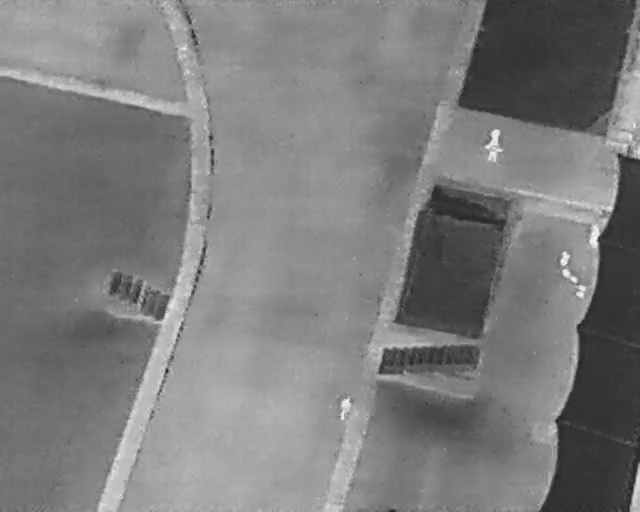Person: (484, 123, 504, 154), (337, 394, 354, 422), (587, 222, 602, 253), (488, 139, 500, 163)
